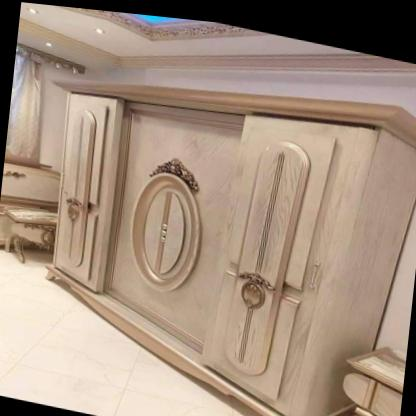Closet: (49, 79, 398, 416)
